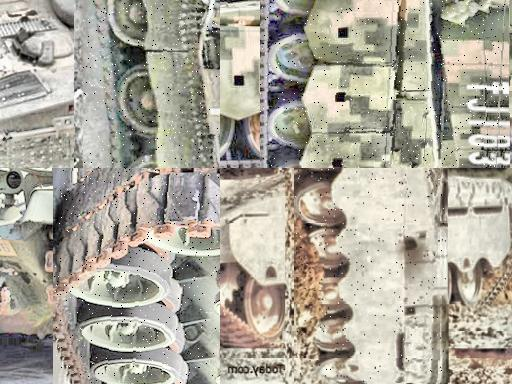tanks: (261, 1, 505, 169), (55, 169, 221, 384), (296, 169, 446, 383), (97, 1, 221, 169)
